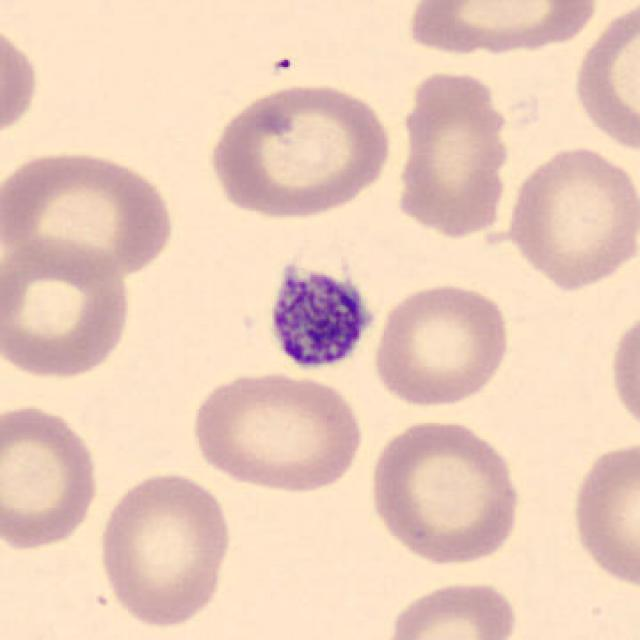Platelets: (263, 257, 377, 374)
RBC: (202, 76, 396, 222), (2, 144, 180, 284), (364, 414, 524, 568), (92, 467, 236, 631), (185, 367, 368, 495), (390, 67, 518, 242), (0, 231, 137, 384), (502, 141, 638, 293), (370, 278, 514, 411), (0, 400, 103, 552), (402, 0, 601, 58), (569, 0, 640, 157), (567, 436, 638, 592), (380, 576, 522, 640), (0, 12, 43, 150), (606, 301, 640, 441)
